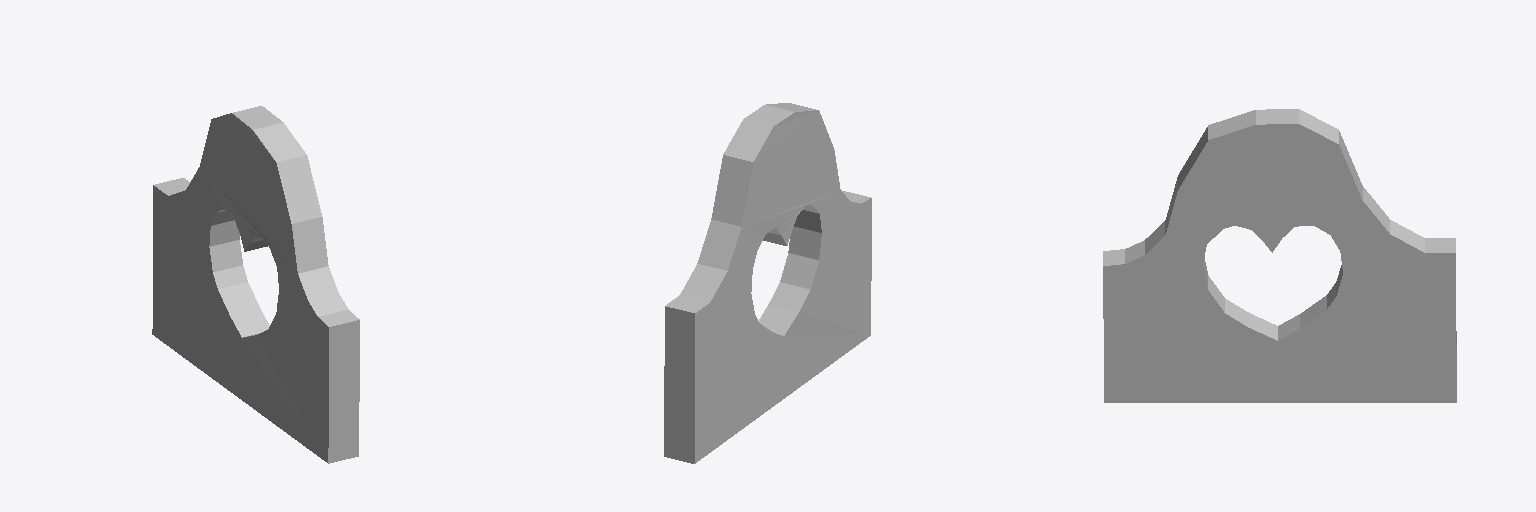
The model's file is gate2.obj.
3 views of the same model, side by side, from view 1: azimuth 30°, elevation 25°; view 2: azimuth 150°, elevation 25°; view 3: azimuth 270°, elevation 25° (orthographic).
Size of the model in its own units: 0.2639 by 2.29 by 2.63.